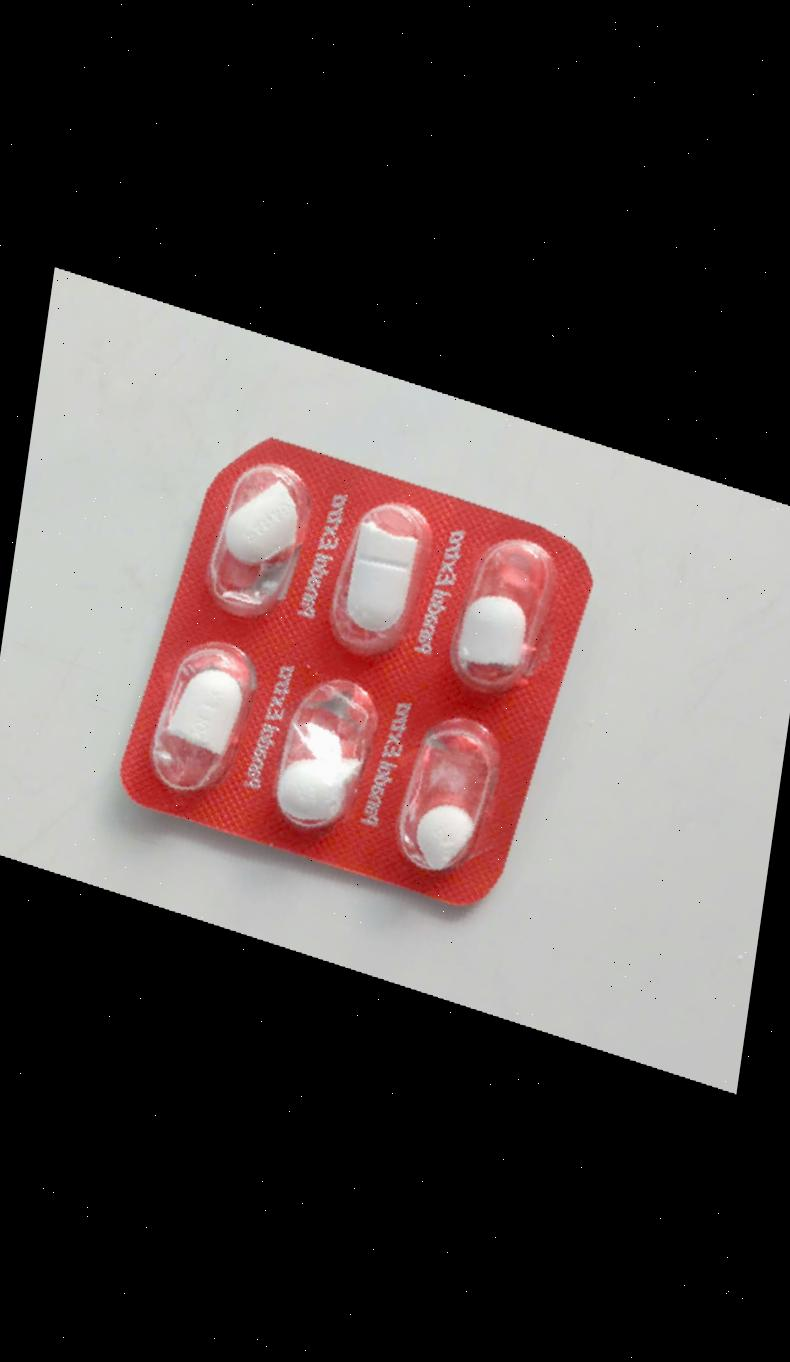Partial: (136, 635, 261, 809), (377, 712, 502, 886), (437, 528, 561, 702), (197, 446, 321, 620), (320, 485, 444, 658), (259, 665, 383, 838)
